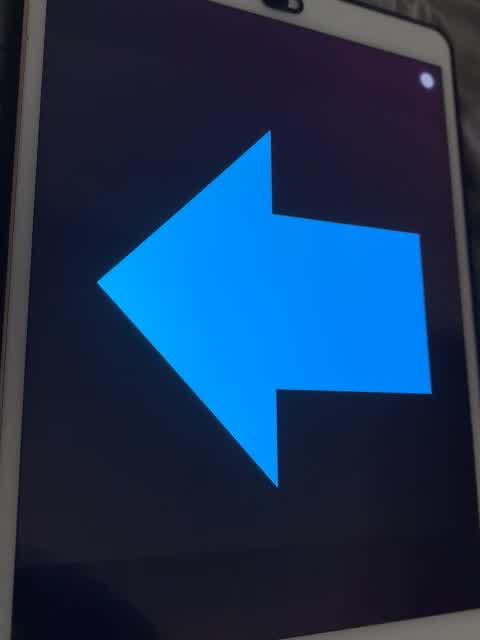left: (90, 108, 438, 497)
